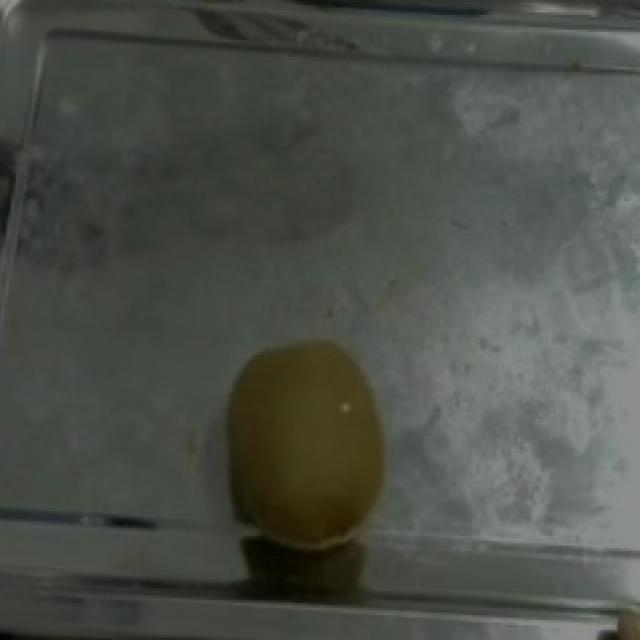Fruit: (202, 332, 406, 560)
